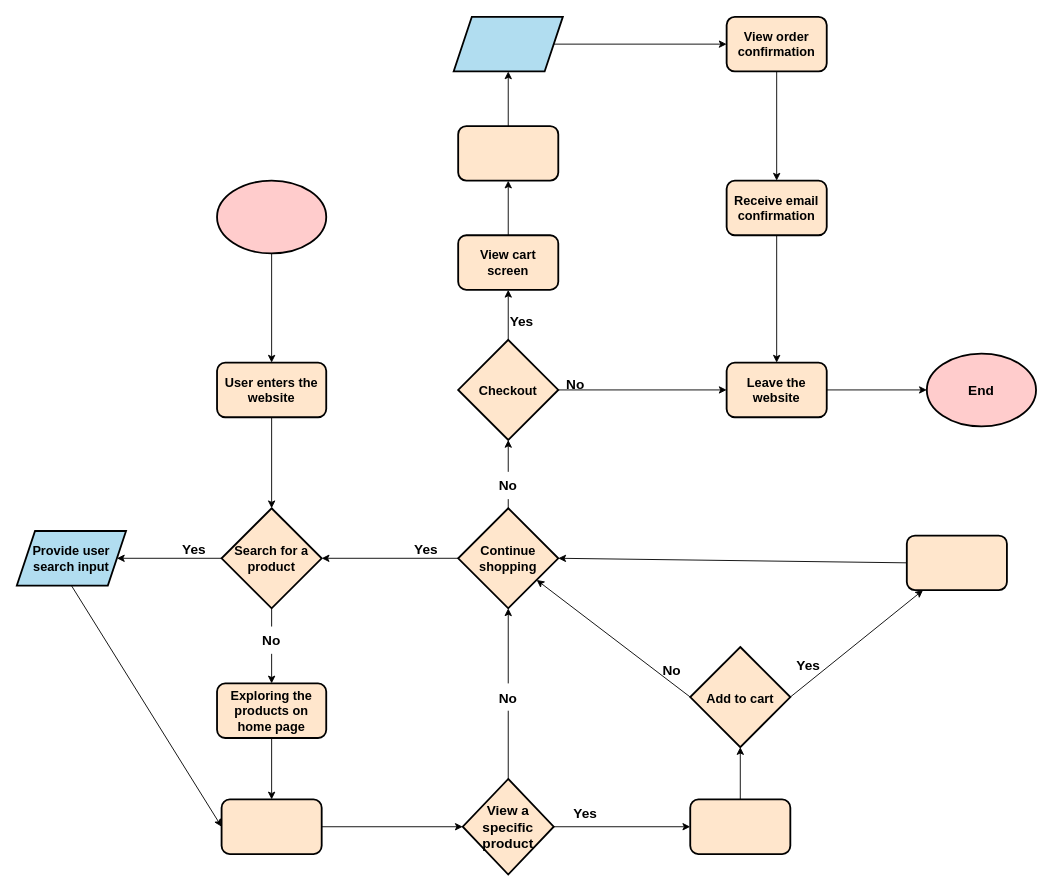
Some shapes in this 1052 by 891 pixel diagram are drawn without their labels. The centre of each missing label's shape, as x and y in pixels:
"Added to cart confimation" goes at point 956,562.
"Open product webpage" goes at point 740,826.
"Provide payment info" goes at point 507,43.
"Start" goes at point 271,216.
"User looks over the products" goes at point 271,826.
"View payment screen" goes at point 508,153.
